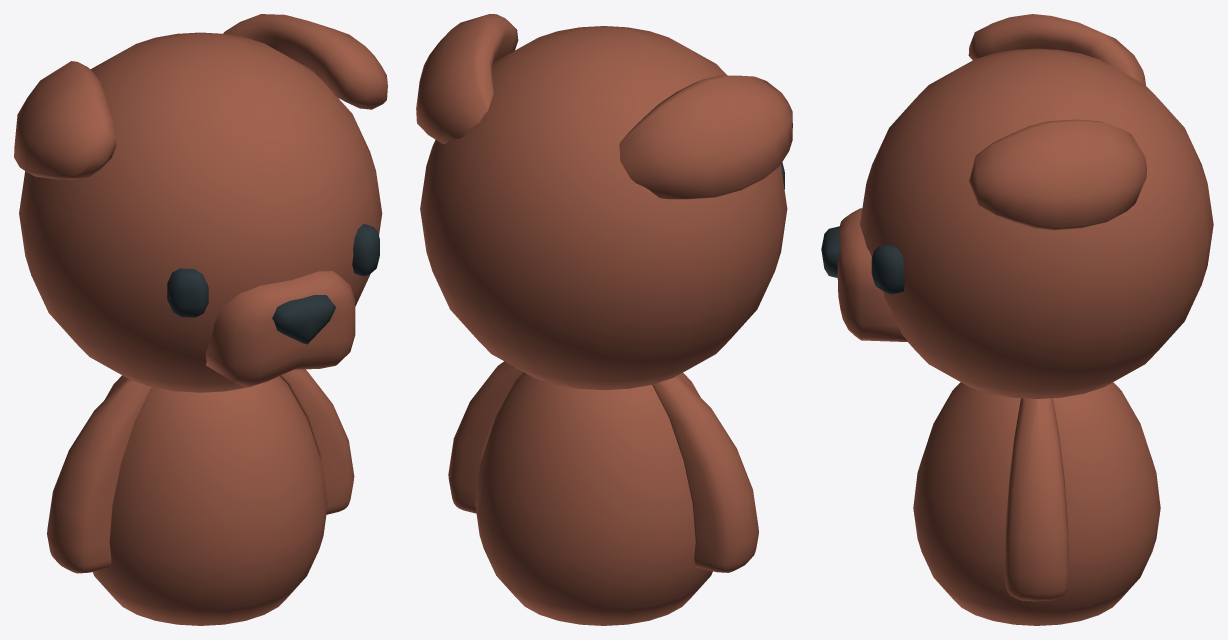
Rendered from character_bear.glb.
3 views of the same model, side by side, from view 1: azimuth 30°, elevation 25°; view 2: azimuth 150°, elevation 25°; view 3: azimuth 270°, elevation 25° (orthographic). The views are drawn at different scales.
Parts seen in each view (by area): view 1: character_bear; view 2: character_bear; view 3: character_bear.
Part boxes in pixels (x1,y1,x2,y2): character_bear: (14,14,387,625); character_bear: (416,14,792,625); character_bear: (821,14,1213,625).
Bounding box in the file's own units: 1.1 × 1.64 × 1.11.
